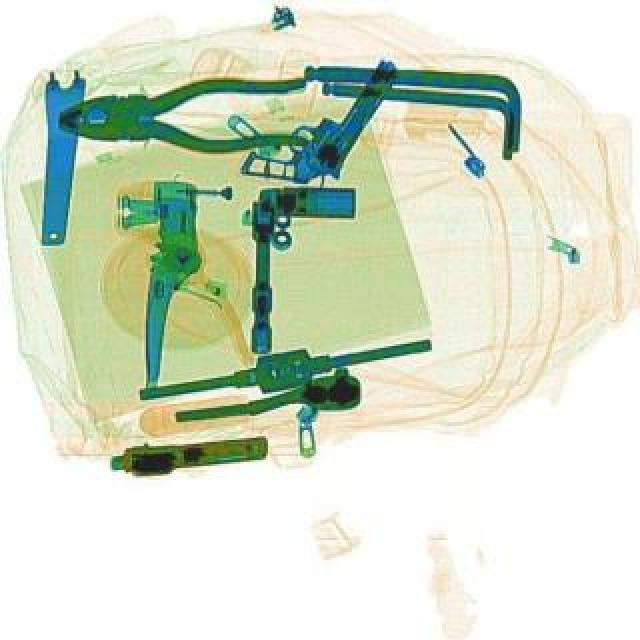gun: (240, 28, 404, 210), (106, 430, 268, 476)
wrench: (54, 74, 306, 156)
